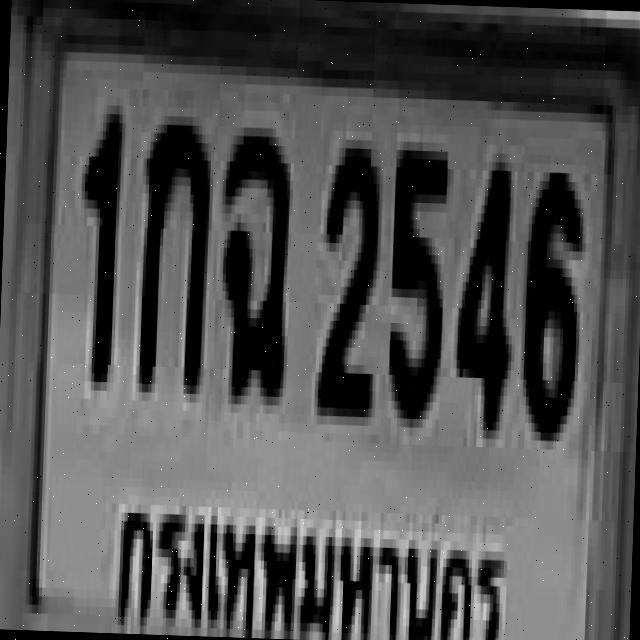1: (74, 100, 120, 378)
10GorGai: (136, 115, 208, 385)
18ChorChing: (215, 122, 291, 392)
2: (314, 138, 378, 408)
4: (451, 152, 512, 430)
5: (384, 141, 448, 411)
6: (518, 162, 582, 432)
Bangkok: (94, 471, 520, 640)
